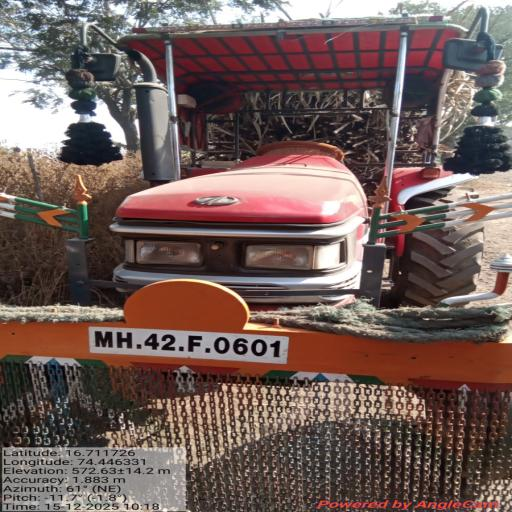number_plate: (89, 323, 304, 364)
